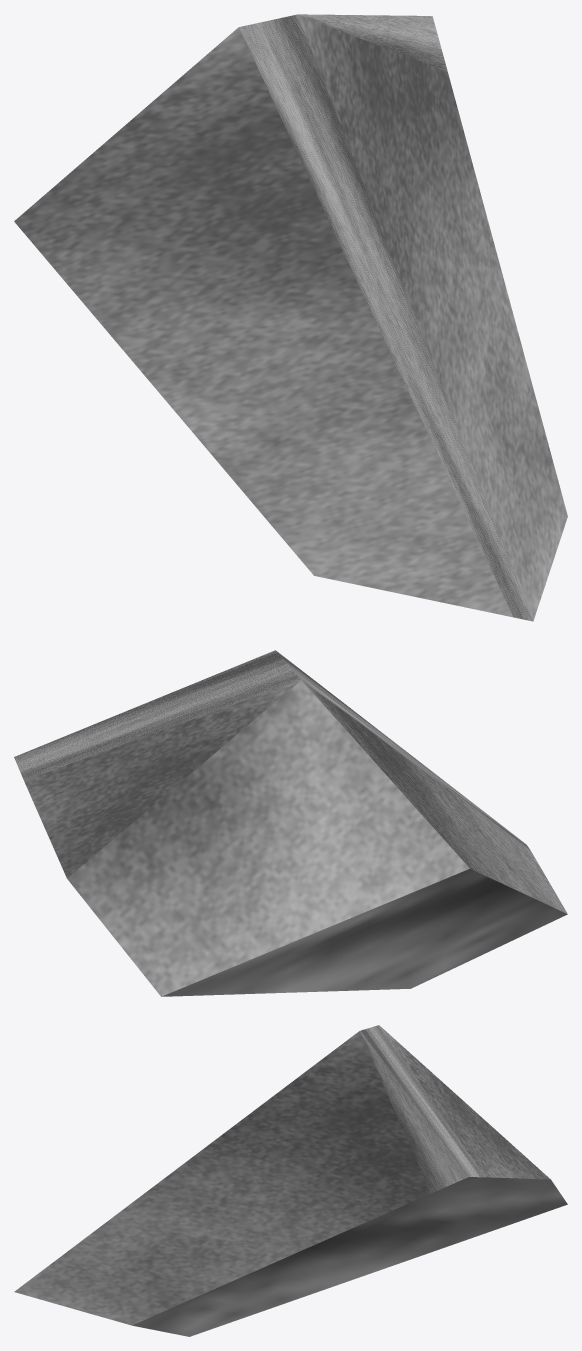
The model's file is tail_cell_008.fbx.
3 renders of one model, top to bottom at view 1: azimuth 30°, elevation 25°; view 2: azimuth 150°, elevation 25°; view 3: azimuth 270°, elevation 25°, orthographic. The views are drawn at different scales.
Visible parts, largest first — view 1: tail_cell.008; view 2: tail_cell.008; view 3: tail_cell.008.
Part boxes in pixels (bbox=[...]): tail_cell.008: bbox=[14, 14, 567, 621]; tail_cell.008: bbox=[14, 650, 567, 996]; tail_cell.008: bbox=[14, 1025, 567, 1336].
Size of the model in its own units: 18.3 by 17.7 by 28.25.
